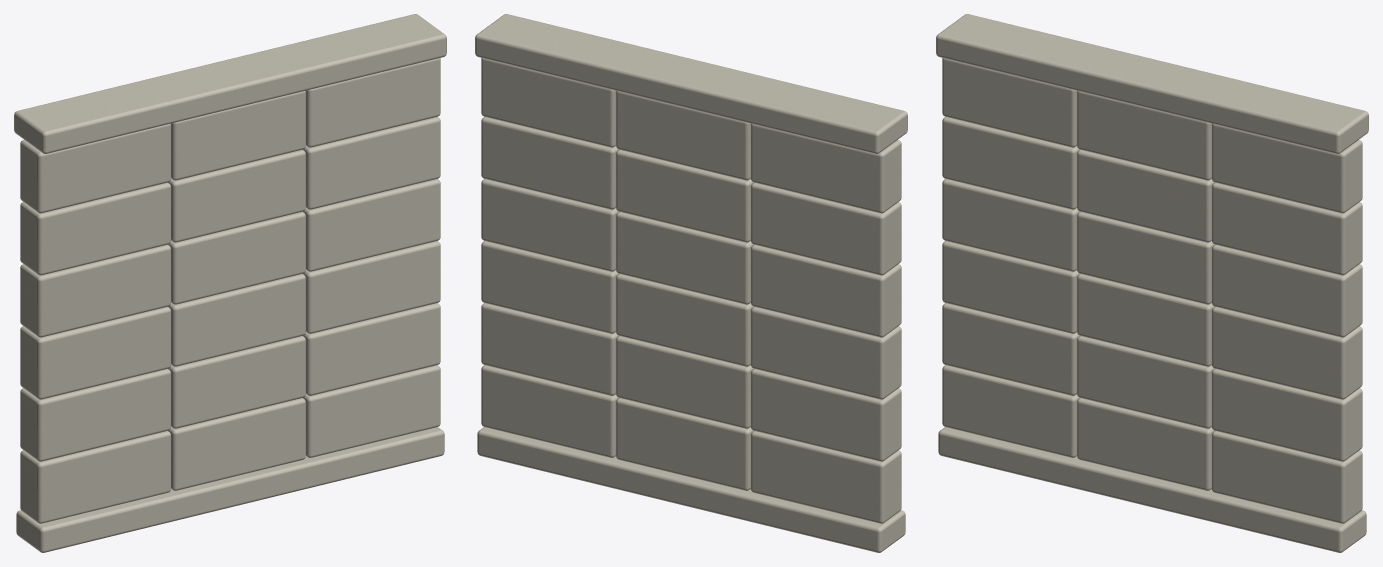
Rendered from arcane-academy-and-spell-trials-academy-wall-d37de8e9__28272.glb.
3 renders of one model, left to right at view 1: azimuth 30°, elevation 25°; view 2: azimuth 150°, elevation 25°; view 3: azimuth 330°, elevation 25°, orthographic.
Parts seen in each view (by area): view 1: academy-wall; view 2: academy-wall; view 3: academy-wall.
Boxes of the visible parts, x1,y1,x2,y2 form: academy-wall: [14, 14, 446, 552]; academy-wall: [475, 14, 907, 552]; academy-wall: [936, 14, 1368, 552].
Bounding box in the file's own units: 3 × 3 × 0.3999.
1 material, 1 textured.
